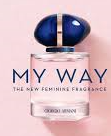armani_my_way_floral: (10, 9, 108, 131)
